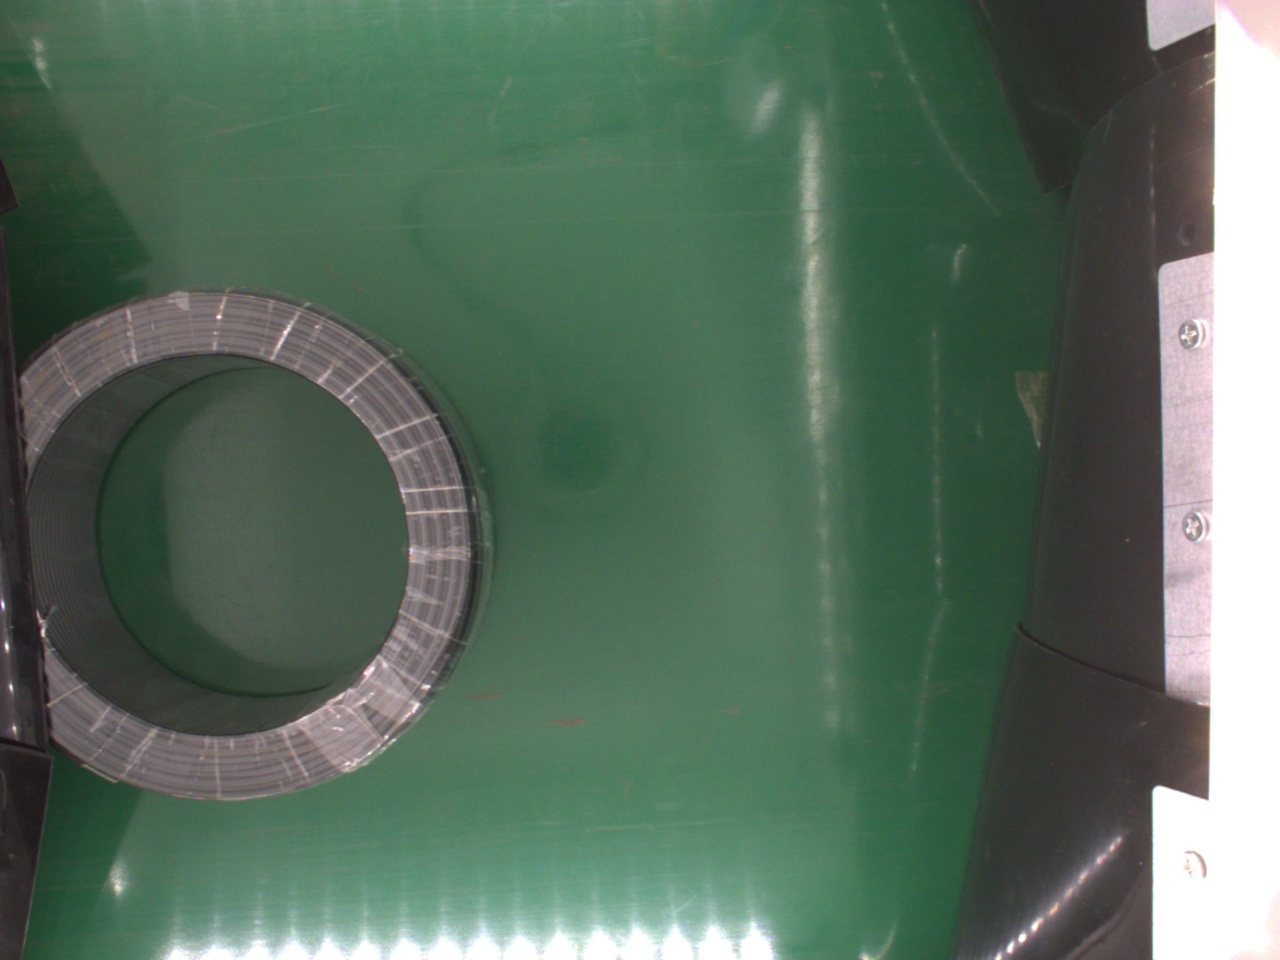black: (16, 290, 491, 804)
